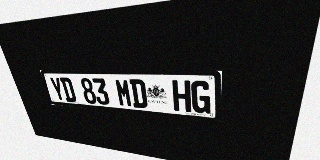3: (92, 78, 110, 105)
8: (79, 78, 97, 104)
D: (129, 79, 148, 109), (59, 77, 77, 102)
G: (191, 80, 211, 114)
H: (172, 80, 191, 112)
M: (114, 79, 133, 107)
Y: (49, 77, 66, 101)
